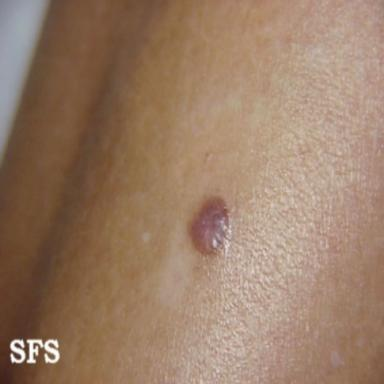basal-cell-carcinoma: (191, 196, 231, 254)
